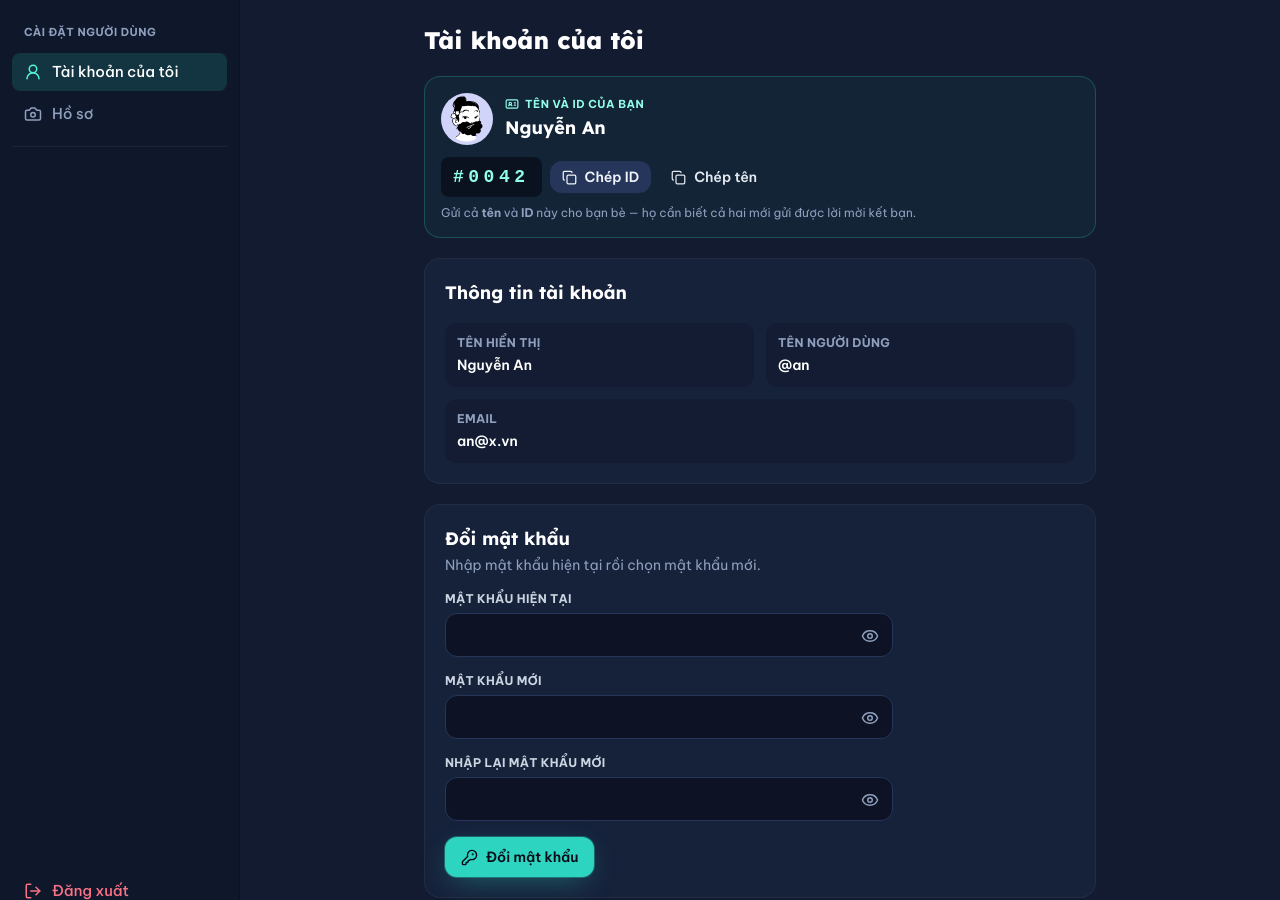
it: Cài đặt → Tài khoản của tôi › đổi mật khẩu thành công: gọi service, xóa form, báo
Type "cu1234" into the password field labelled "Mật khẩu hiện tại".
click(669, 635); type("cu1234")  # box [445,613,893,657]
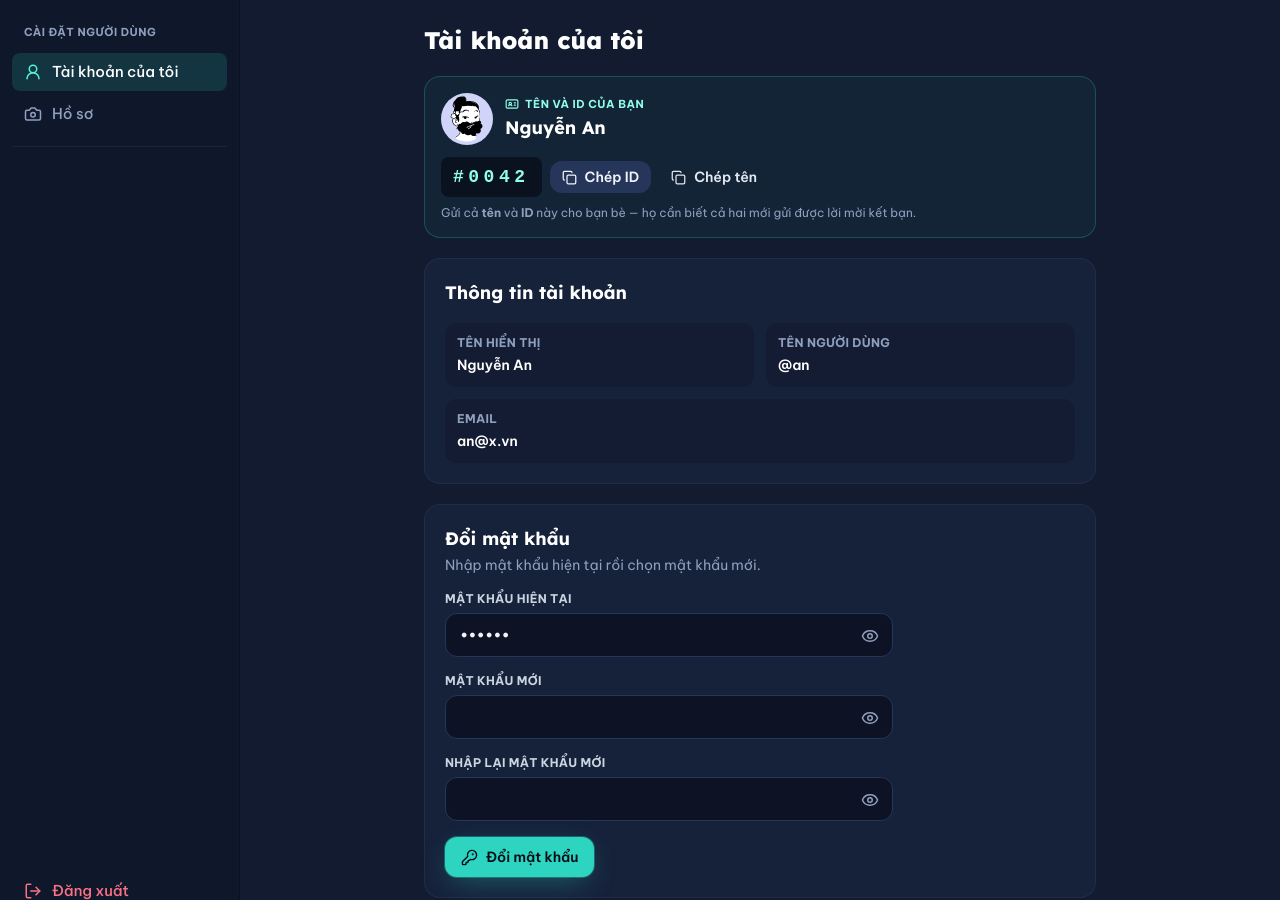
Type "moi1234" into the password field labelled "Mật khẩu mới".
click(669, 717); type("moi1234")  # box [445,695,893,739]
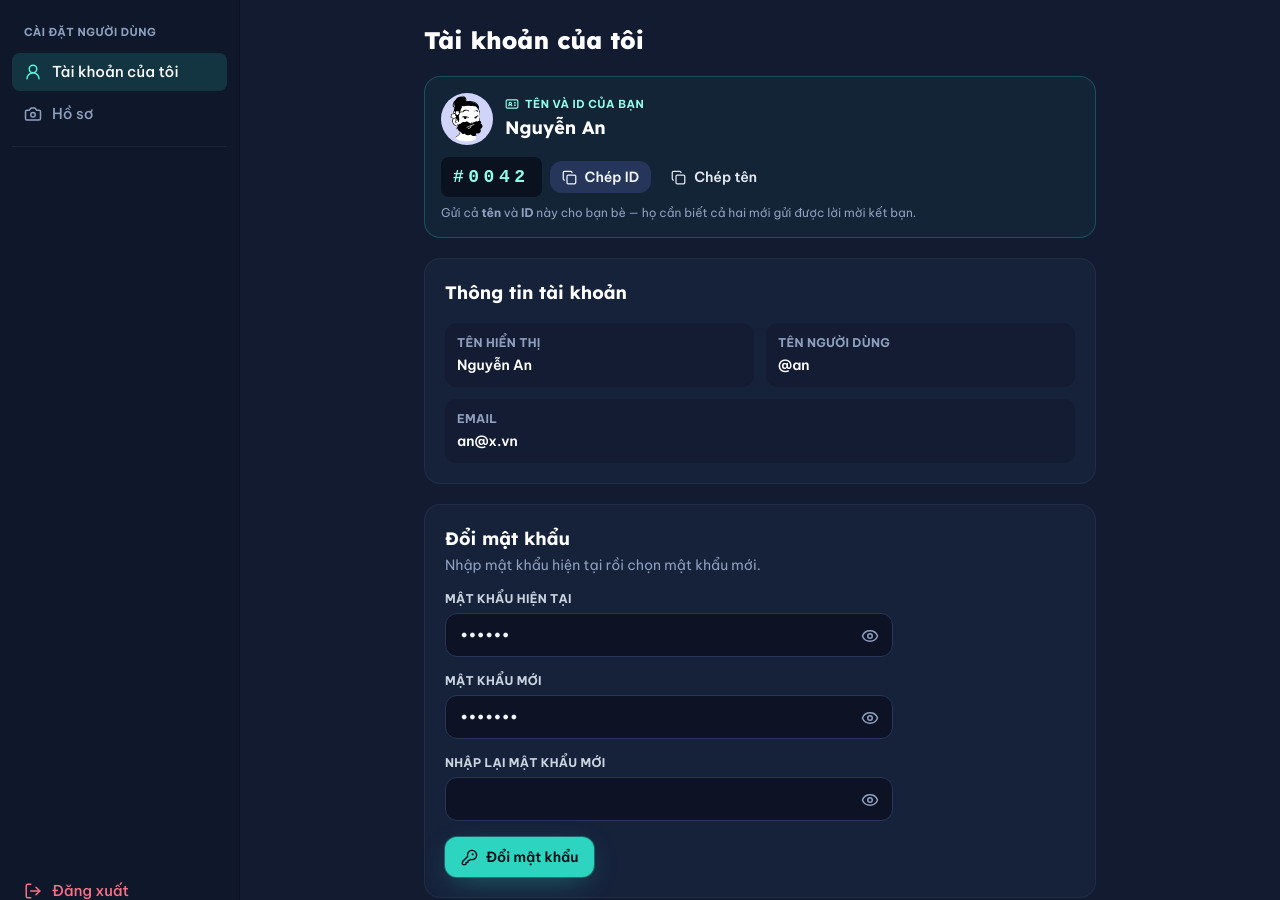
Type "moi1234" into the password field labelled "Nhập lại mật khẩu mới".
click(669, 799); type("moi1234")  # box [445,777,893,821]
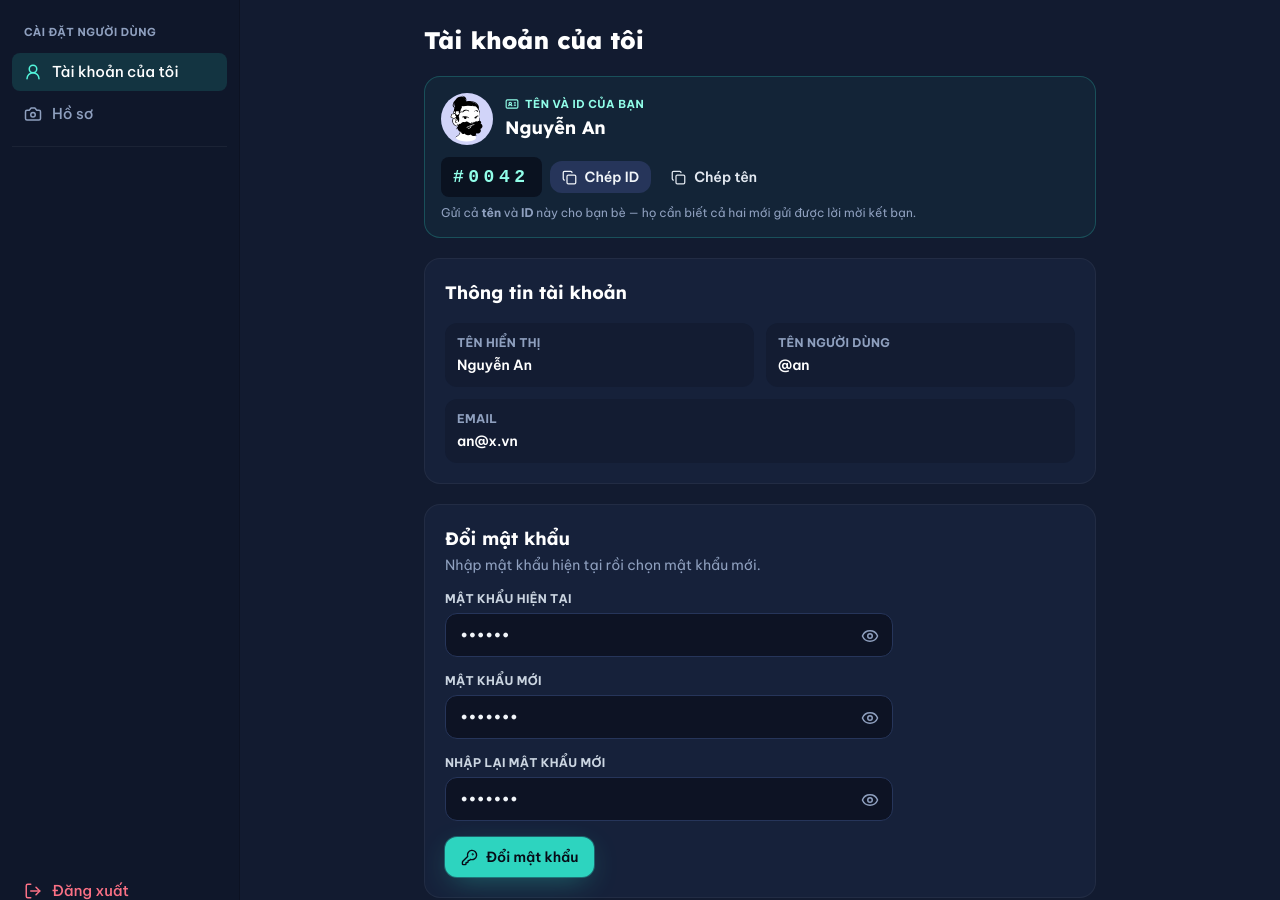
Click the button "Đổi mật khẩu".
click(520, 857)  # box [445,837,594,877]
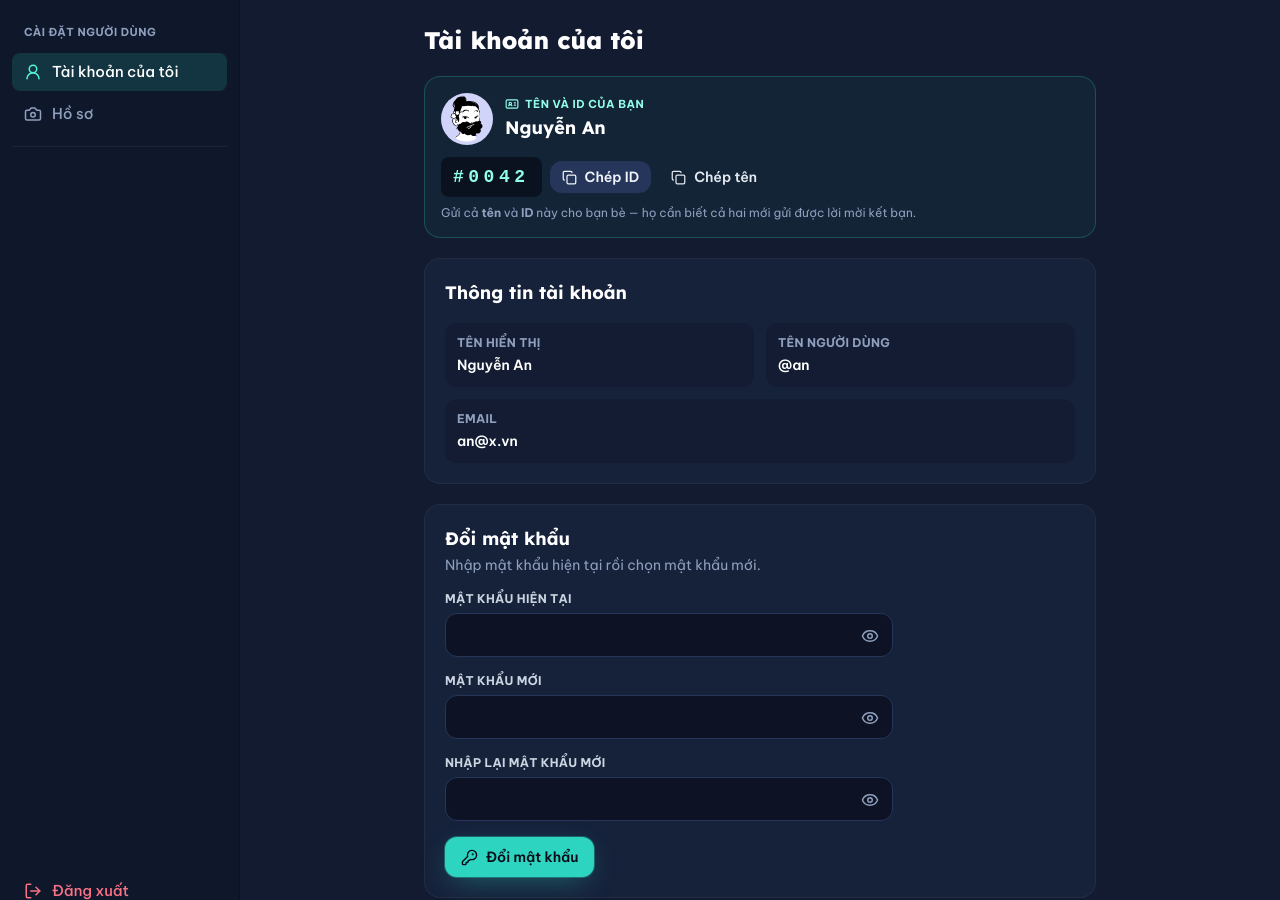
Check: the password field labelled "Mật khẩu mới" is empty, box [445,695,893,739]
